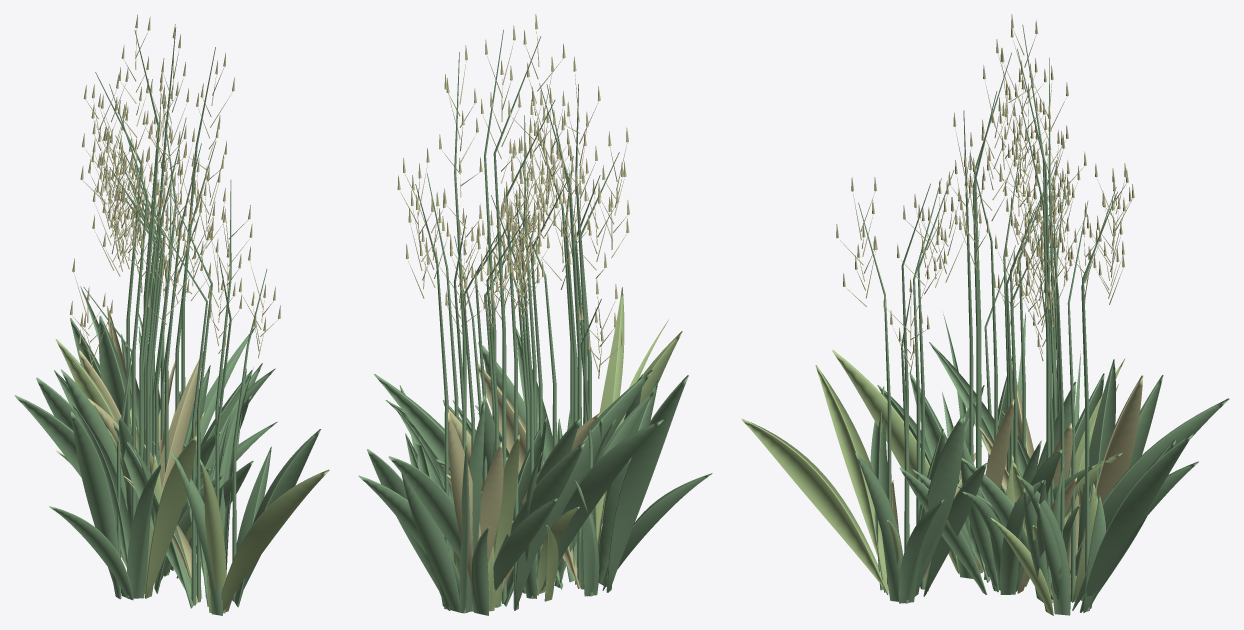
3 renders of one model, left to right at view 1: azimuth 30°, elevation 25°; view 2: azimuth 150°, elevation 25°; view 3: azimuth 270°, elevation 25°, orthographic. The views are drawn at different scales.
Visible parts, largest first — view 1: river_reeds; view 2: river_reeds; view 3: river_reeds.
Boxes of the visible parts, x1,y1,x2,y2 form: river_reeds: (14, 14, 329, 615); river_reeds: (358, 14, 712, 615); river_reeds: (741, 14, 1229, 615).
Size of the model in its own units: 1.43 by 2.84 by 2.2.
